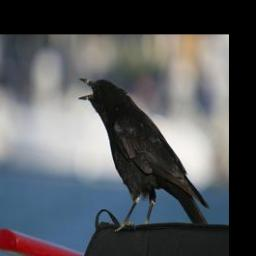Crow: (76, 74, 212, 236)
